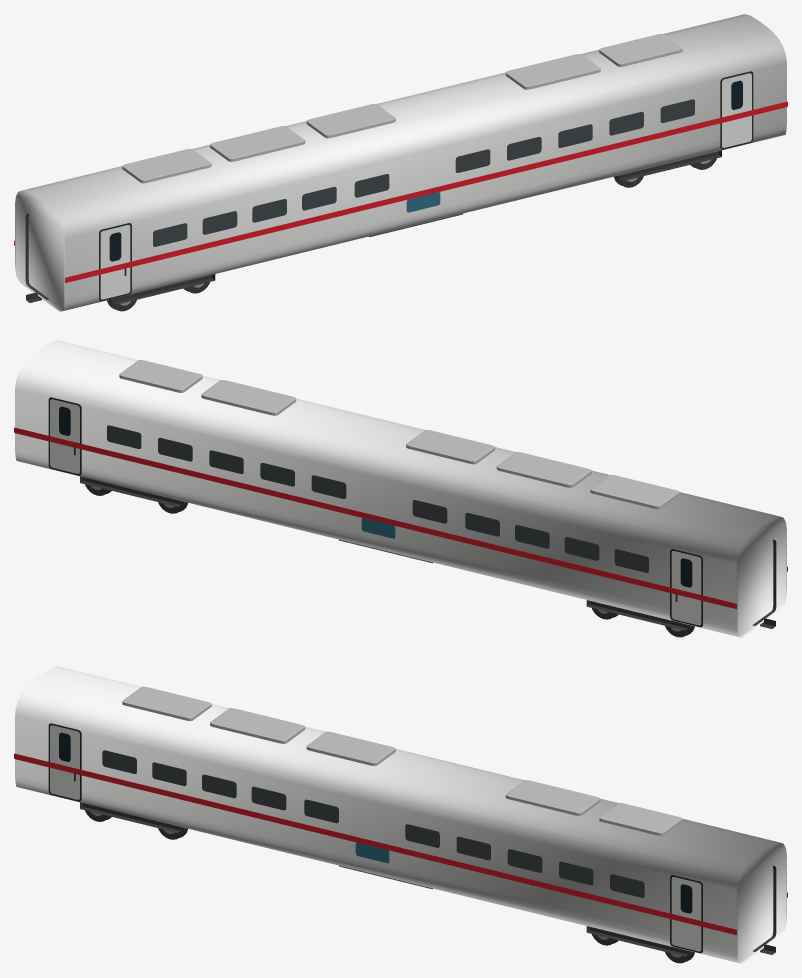
File: ice3-br403-v2-unified-service-403-8.glb
The picture shows the model from 3 angles, top to bottom: view 1: azimuth 30°, elevation 25°; view 2: azimuth 150°, elevation 25°; view 3: azimuth 330°, elevation 25°; orthographic projection.
Visible parts, largest first — view 1: ice3_continuity_shared_transformer_shell.003, ice3_unified_service_403_8_shared_red_body_stripe_-1, ice3_v2_service_403_8_roof_fairing_3, ice3_v2_service_403_8_roof_fairing_1, ice3_v2_service_403_8_roof_fairing_0, ice3_v2_service_403_8_roof_fairing_2, ice3_unified_service_403_8_rear_door_leaf_-1, ice3_v2_service_403_8_roof_fairing_4, ice3_unified_service_403_8_front_door_leaf_-1, ice3_v2_service_403_8_bogie_0_sideframe_-1, ice3_v2_service_403_8_bogie_1_sideframe_-1, ice3_unified_service_403_8_window_-1_04 (+9 smaller); view 2: ice3_continuity_shared_transformer_shell.003, ice3_unified_service_403_8_shared_red_body_stripe_1, ice3_v2_service_403_8_roof_fairing_3, ice3_v2_service_403_8_roof_fairing_1, ice3_v2_service_403_8_roof_fairing_0, ice3_v2_service_403_8_roof_fairing_2, ice3_unified_service_403_8_rear_door_leaf_1, ice3_v2_service_403_8_roof_fairing_4, ice3_unified_service_403_8_front_door_leaf_1, ice3_v2_service_403_8_bogie_0, ice3_v2_service_403_8_bogie_1, ice3_unified_service_403_8_window_1_04 (+9 smaller); view 3: ice3_continuity_shared_transformer_shell.003, ice3_unified_service_403_8_shared_red_body_stripe_-1, ice3_v2_service_403_8_roof_fairing_1, ice3_v2_service_403_8_roof_fairing_3, ice3_v2_service_403_8_roof_fairing_0, ice3_v2_service_403_8_roof_fairing_2, ice3_unified_service_403_8_front_door_leaf_-1, ice3_v2_service_403_8_roof_fairing_4, ice3_unified_service_403_8_rear_door_leaf_-1, ice3_v2_service_403_8_bogie_1_sideframe_-1, ice3_v2_service_403_8_bogie_0_sideframe_-1, ice3_unified_service_403_8_window_-1_03 (+9 smaller).
Part boxes in pixels (box(x1,y1,x2,y2)): ice3_continuity_shared_transformer_shell.003: box(15, 14, 786, 311); ice3_unified_service_403_8_shared_red_body_stripe_-1: box(65, 101, 787, 282); ice3_v2_service_403_8_roof_fairing_3: box(505, 54, 600, 89); ice3_v2_service_403_8_roof_fairing_1: box(210, 126, 305, 161); ice3_v2_service_403_8_roof_fairing_0: box(122, 148, 211, 183); ice3_v2_service_403_8_roof_fairing_2: box(306, 104, 395, 138); ice3_unified_service_403_8_rear_door_leaf_-1: box(100, 225, 130, 299); ice3_v2_service_403_8_roof_fairing_4: box(599, 34, 682, 66); ice3_unified_service_403_8_front_door_leaf_-1: box(722, 73, 751, 147); ice3_v2_service_403_8_bogie_0_sideframe_-1: box(114, 274, 215, 304); ice3_v2_service_403_8_bogie_1_sideframe_-1: box(620, 150, 721, 180); ice3_unified_service_403_8_window_-1_04: box(354, 174, 389, 197); ice3_continuity_shared_transformer_shell.003: box(15, 340, 786, 637); ice3_unified_service_403_8_shared_red_body_stripe_1: box(14, 427, 736, 608); ice3_v2_service_403_8_roof_fairing_3: box(201, 380, 296, 415); ice3_v2_service_403_8_roof_fairing_1: box(496, 452, 591, 487); ice3_v2_service_403_8_roof_fairing_0: box(590, 474, 679, 509); ice3_v2_service_403_8_roof_fairing_2: box(406, 430, 495, 464); ice3_unified_service_403_8_rear_door_leaf_1: box(671, 551, 701, 625); ice3_v2_service_403_8_roof_fairing_4: box(119, 360, 202, 392); ice3_unified_service_403_8_front_door_leaf_1: box(50, 399, 79, 473); ice3_v2_service_403_8_bogie_0: box(586, 600, 694, 637); ice3_v2_service_403_8_bogie_1: box(80, 476, 187, 513); ice3_unified_service_403_8_window_1_04: box(412, 500, 447, 523); ice3_continuity_shared_transformer_shell.003: box(15, 666, 786, 963); ice3_unified_service_403_8_shared_red_body_stripe_-1: box(14, 753, 736, 934); ice3_v2_service_403_8_roof_fairing_1: box(210, 708, 305, 743); ice3_v2_service_403_8_roof_fairing_3: box(505, 780, 600, 815); ice3_v2_service_403_8_roof_fairing_0: box(122, 686, 211, 721); ice3_v2_service_403_8_roof_fairing_2: box(306, 731, 395, 765); ice3_unified_service_403_8_front_door_leaf_-1: box(671, 877, 701, 951); ice3_v2_service_403_8_roof_fairing_4: box(599, 803, 682, 835); ice3_unified_service_403_8_rear_door_leaf_-1: box(50, 725, 79, 799); ice3_v2_service_403_8_bogie_1_sideframe_-1: box(586, 926, 687, 956); ice3_v2_service_403_8_bogie_0_sideframe_-1: box(80, 802, 181, 832); ice3_unified_service_403_8_window_-1_03: box(251, 786, 286, 810).
Bounding box in the file's own units: 25.5 × 4.04 × 3.02.
